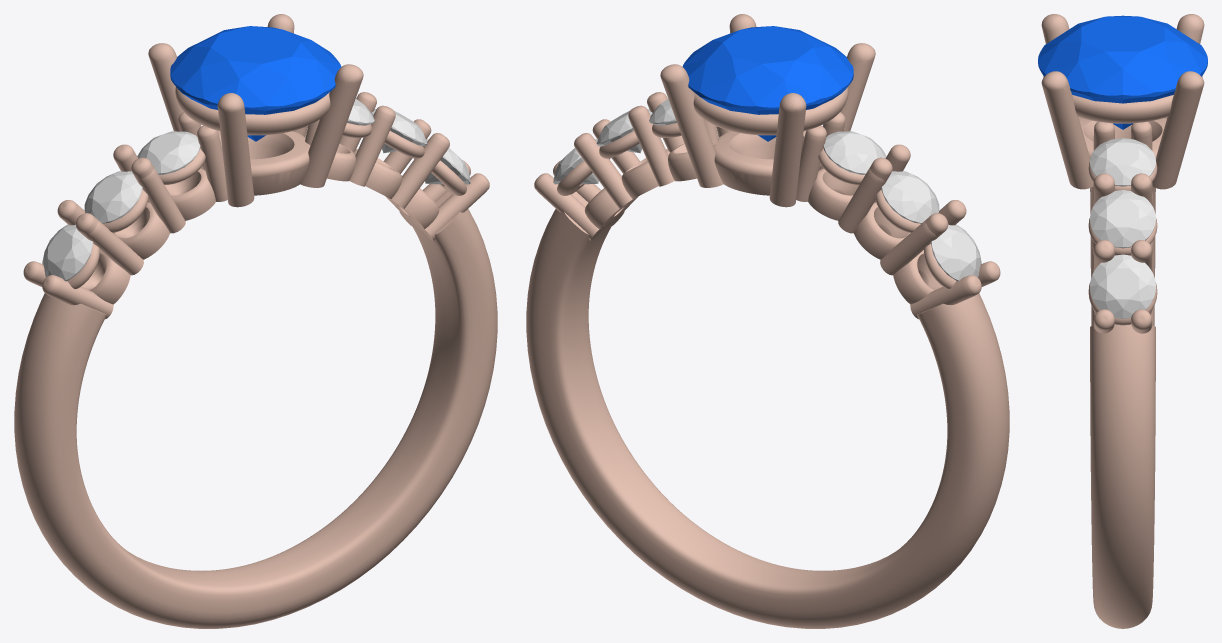
File: bluesapphire-round-rosegold-4prong-straightband-3stone.glb
The picture shows the model from 3 angles, left to right: view 1: azimuth 30°, elevation 25°; view 2: azimuth 150°, elevation 25°; view 3: azimuth 270°, elevation 25°; orthographic projection.
Parts seen in each view (by area): view 1: metal, stone, side.001, side.002, side, side.004; view 2: metal, stone, side.001, side.002, side, side.004, side.005; view 3: metal, stone, side.005, side.004, side.003.
Boxes of the visible parts, box(x1,y1,x2,y2) form: metal: box(14, 14, 497, 628); stone: box(170, 26, 341, 141); side.001: box(84, 171, 142, 223); side.002: box(42, 224, 93, 281); side: box(137, 131, 200, 174); side.004: box(371, 109, 427, 153); metal: box(526, 14, 1009, 628); stone: box(682, 26, 853, 141); side.001: box(881, 171, 939, 223); side.002: box(930, 224, 981, 281); side: box(823, 131, 886, 174); side.004: box(596, 109, 652, 153); side.005: box(553, 139, 600, 184); metal: box(1041, 14, 1204, 628); stone: box(1038, 15, 1207, 129); side.005: box(1090, 254, 1155, 318); side.004: box(1090, 190, 1155, 248); side.003: box(1090, 138, 1155, 186).
Bounding box in the file's own units: 20.49 × 23.81 × 6.44.
